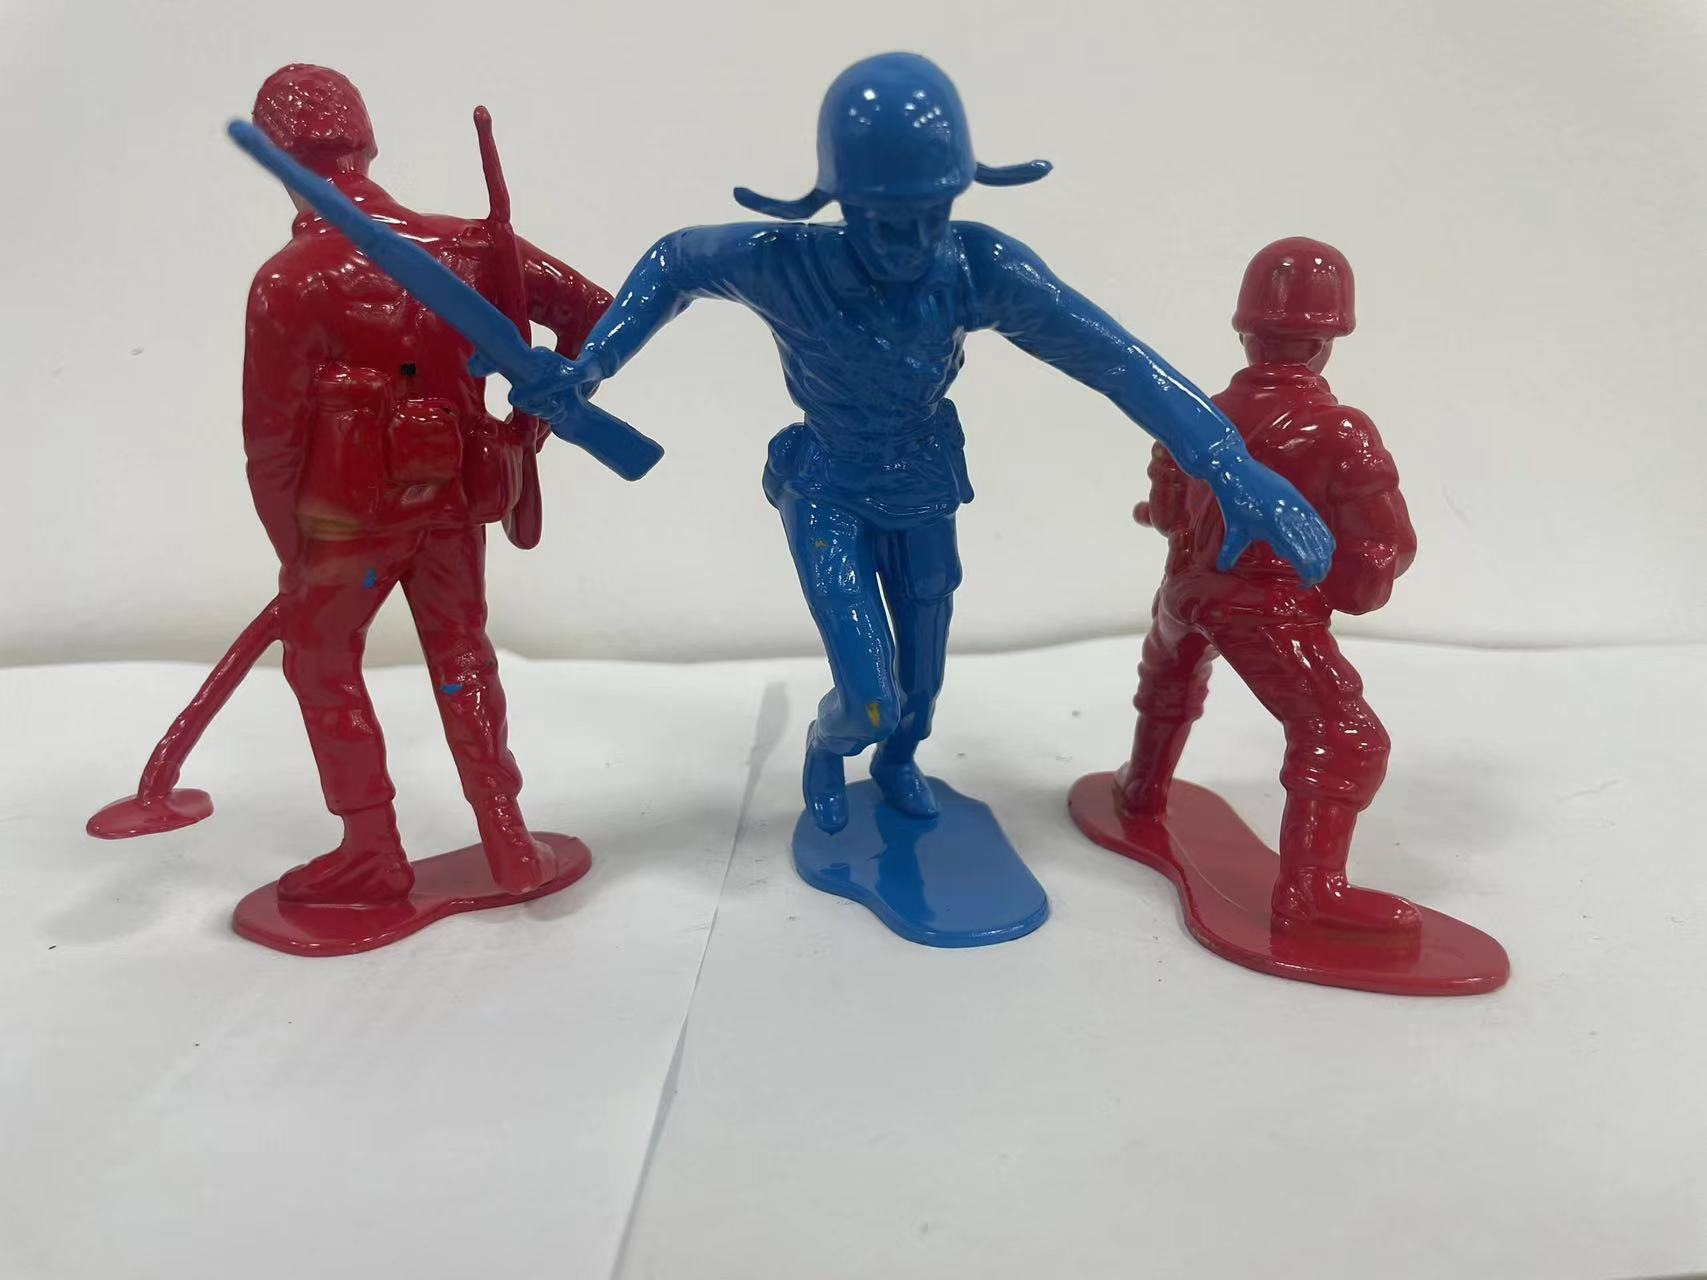blue: (581, 13, 1227, 955)
red: (99, 43, 603, 975), (1094, 173, 1544, 1025)
